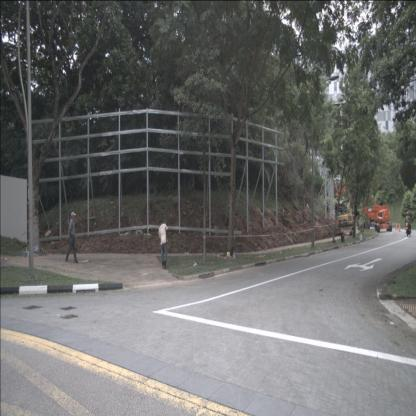human-pedestrian-adult: (65, 212, 79, 264)
movable_object-trafficcone: (398, 224, 401, 233), (395, 223, 397, 230)
vehicle-motorcycle: (404, 211, 412, 237)
